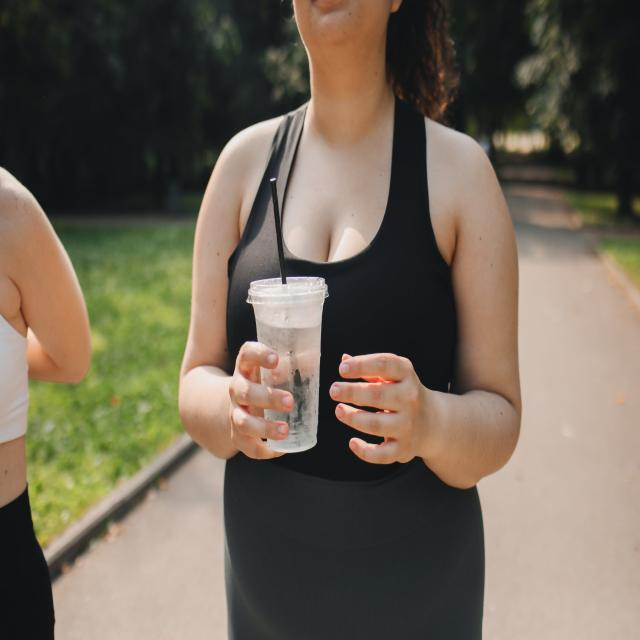cup: (246, 274, 330, 455)
